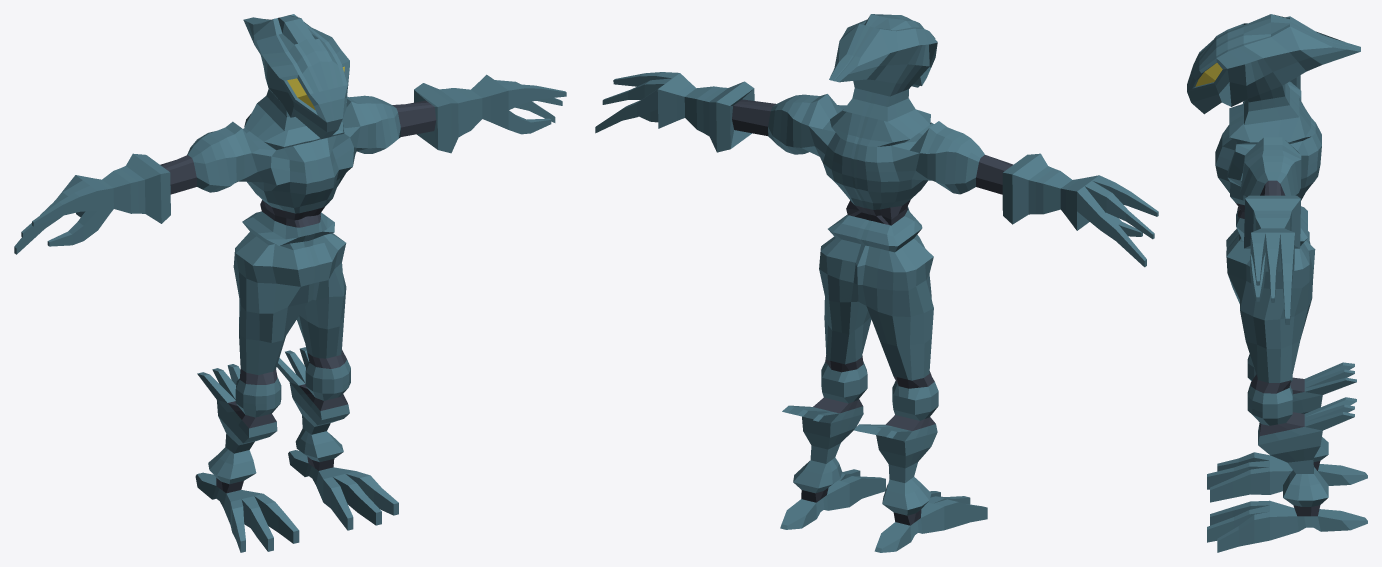
Rendered from Map3Enemy.fbx.
3 renders of one model, left to right at view 1: azimuth 30°, elevation 25°; view 2: azimuth 150°, elevation 25°; view 3: azimuth 270°, elevation 25°, orthographic.
Parts seen in each view (by area): view 1: Plane.002; view 2: Plane.002; view 3: Plane.002.
Boxes of the visible parts, x1,y1,x2,y2 form: Plane.002: [14, 14, 566, 552]; Plane.002: [595, 14, 1158, 552]; Plane.002: [1187, 14, 1367, 552].
Size of the model in its own units: 234 by 205 by 67.72.
